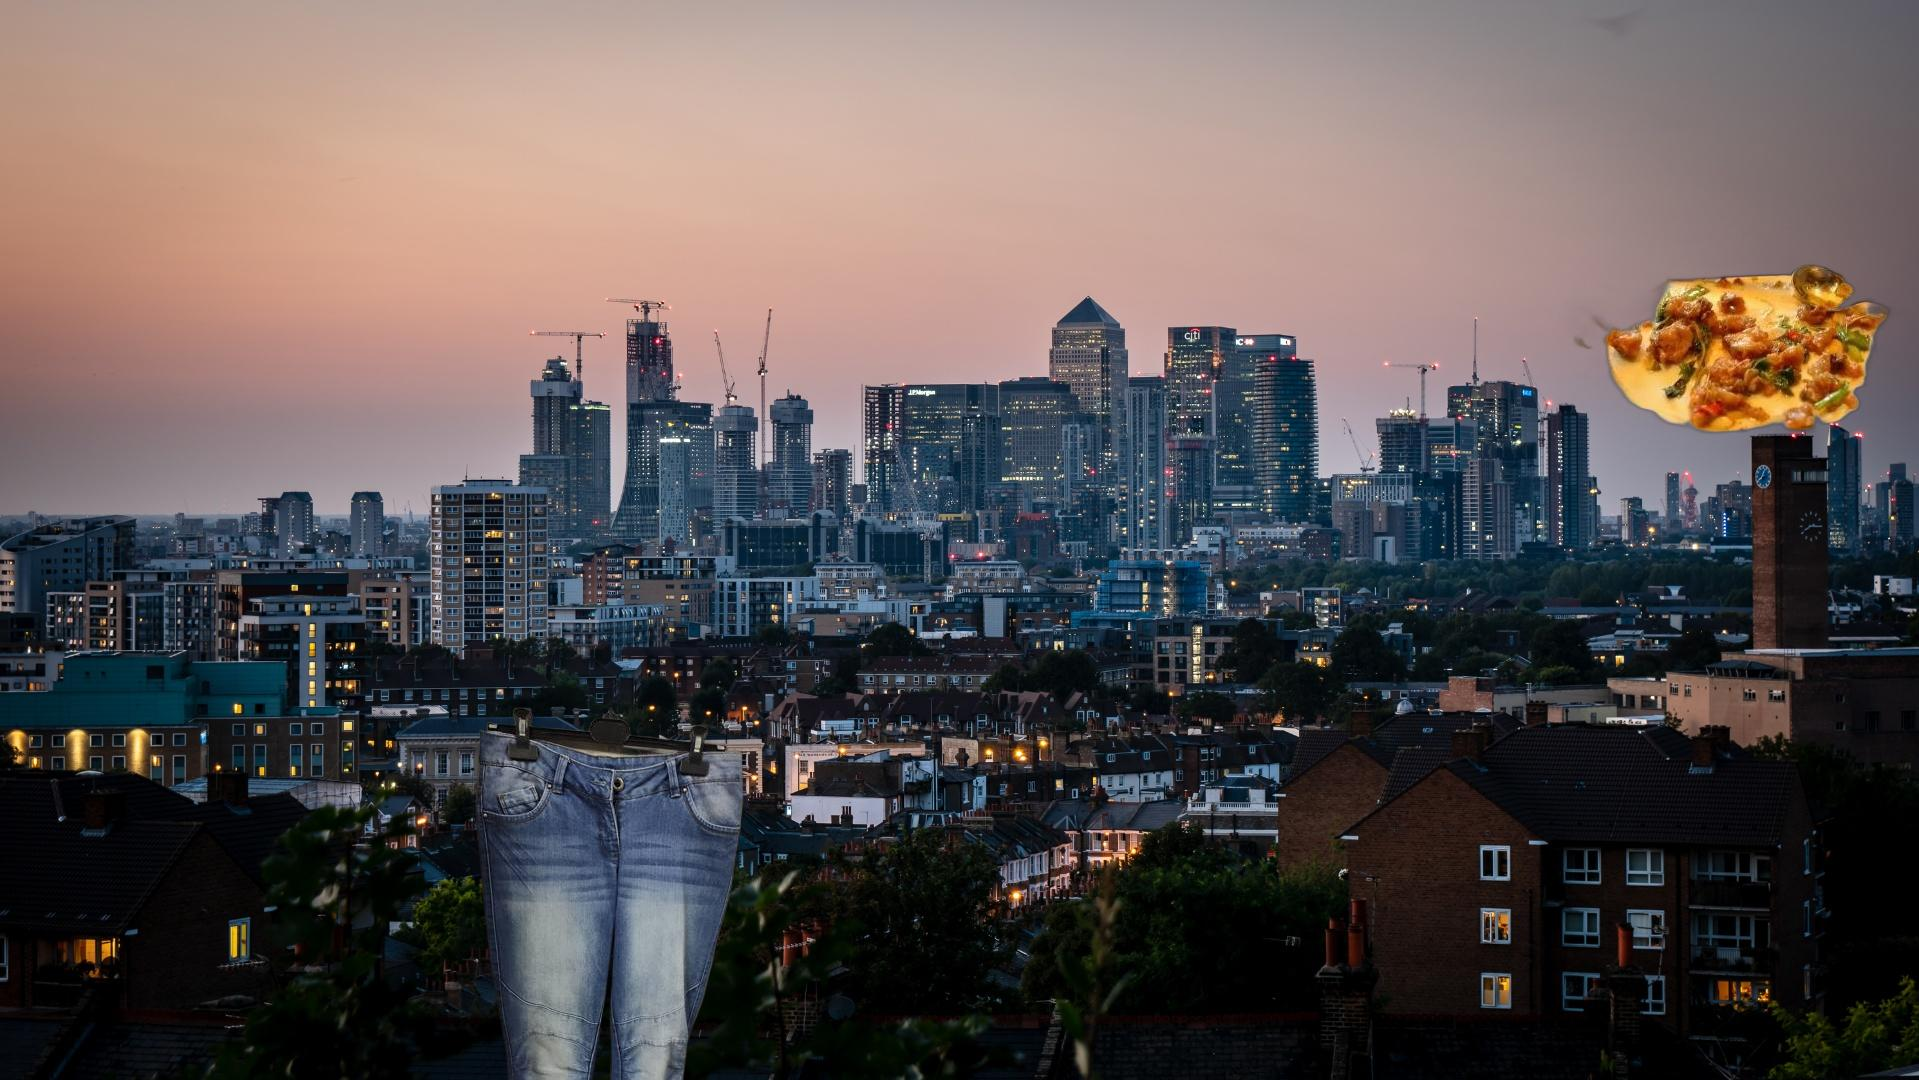biological: (1518, 262, 1919, 438)
clothes: (471, 703, 746, 1080)
metal-cans: (1815, 825, 1919, 1011)
